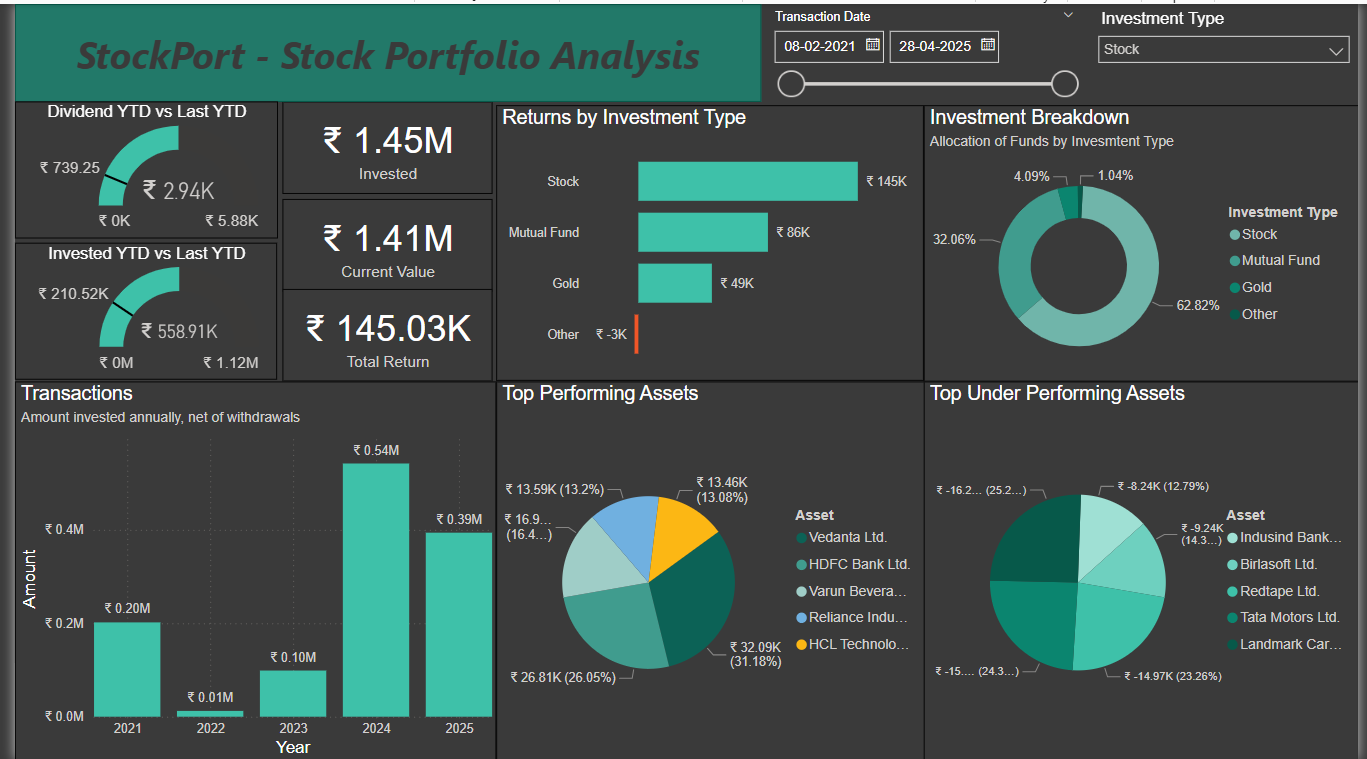

Layout of this report page (visuals, bound fields, positions):
{"tool":"powerbi","page":{"name":"Overview","canvas":[1280,720],"ordinal":0},"visuals":[{"type":"columnChart","title":"Transactions","fields":{"Category":["Append1.Transaction Date.Variation.Date Hierarchy.Year","Append1.Transaction Date.Variation.Date Hierarchy.Month","Append1.Transaction Date.Variation.Date Hierarchy.Day"],"Y":["Sum(Append1.Amount(Credits/Debits))"]},"box":[0,359.5,458.3,360.9],"z":2000},{"type":"card","fields":{"Values":["Sum(Current Value.Current Value)"]},"box":[254.5,185.2,200,87.8],"z":3000},{"type":"card","fields":{"Values":["Sum(Current Value.Total cost)"]},"box":[254.5,93.3,200,87.8],"z":4000},{"type":"donutChart","title":"Investment Breakdown","fields":{"Category":["Current Value.Investment Type"],"Y":["Sum(Current Value.Current Value)"]},"box":[865.5,96.4,414.3,263.1],"z":5000},{"type":"card","fields":{"Values":["Sum(Current Value.Total Return)"]},"box":[254.5,271.7,200,87.8],"z":6000},{"type":"slicer","fields":{"Values":["Append1.Transaction Date"]},"box":[710.8,0,310.1,93.3],"z":7000},{"type":"pieChart","title":"Top Performing Assets","fields":{"Category":["Current Value.Fund Name"],"Y":["Sum(Current Value.Total Return)"]},"box":[458.3,359.5,408.9,360.9],"z":8000},{"type":"barChart","title":"Returns by Investment Type","fields":{"Category":["Current Value.Investment Type"],"Y":["Sum(Current Value.Total Return)"]},"box":[458.3,96.1,407.5,262.1],"z":9000},{"type":"pieChart","title":"Top Under Performing Assets","fields":{"Category":["Current Value.Fund Name"],"Y":["Sum(Current Value.Total Return)"]},"box":[865.9,359.5,414.4,360.9],"z":10000},{"type":"shape","box":[0,0,710.8,93.3],"z":12000},{"type":"slicer","fields":{"Values":["Append1.Investment Type"]},"box":[1020.9,0,259.3,94.7],"z":13000},{"type":"gauge","title":"Dividend YTD vs Last YTD","fields":{"TargetValue":["Append1.Last YEAR YTD"],"Y":["Append1.YTD Dividend"]},"box":[0,93.3,250,130.4],"z":13500},{"type":"gauge","title":"Invested YTD vs Last YTD","fields":{"Y":["Append1.YTD Investment"],"TargetValue":["Append1.Last YTD Investment"]},"box":[0,227.8,249.7,130.4],"z":14000}]}

Visuals, with their boxes in screenshot pixels (x1, y1, x2, y2), scaled from the page's 1280x720 canvas onto the 1367x759 screenshot:
"Transactions" columnChart: <box>0,379,489,758</box>
card - Sum(Current Value.Current Value): <box>272,195,485,288</box>
card - Sum(Current Value.Total cost): <box>272,98,485,191</box>
"Investment Breakdown" donutChart: <box>924,102,1366,379</box>
card - Sum(Current Value.Total Return): <box>272,286,485,379</box>
slicer - Append1.Transaction Date: <box>759,0,1090,98</box>
"Top Performing Assets" pieChart: <box>489,379,926,758</box>
"Returns by Investment Type" barChart: <box>489,101,925,378</box>
"Top Under Performing Assets" pieChart: <box>925,379,1366,758</box>
shape: <box>0,0,759,98</box>
slicer - Append1.Investment Type: <box>1090,0,1366,100</box>
"Dividend YTD vs Last YTD" gauge: <box>0,98,267,236</box>
"Invested YTD vs Last YTD" gauge: <box>0,240,267,378</box>
